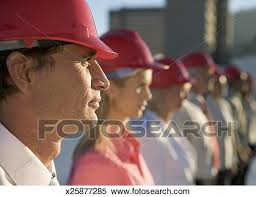Person_wearing_helmet: (0, 0, 116, 81)
